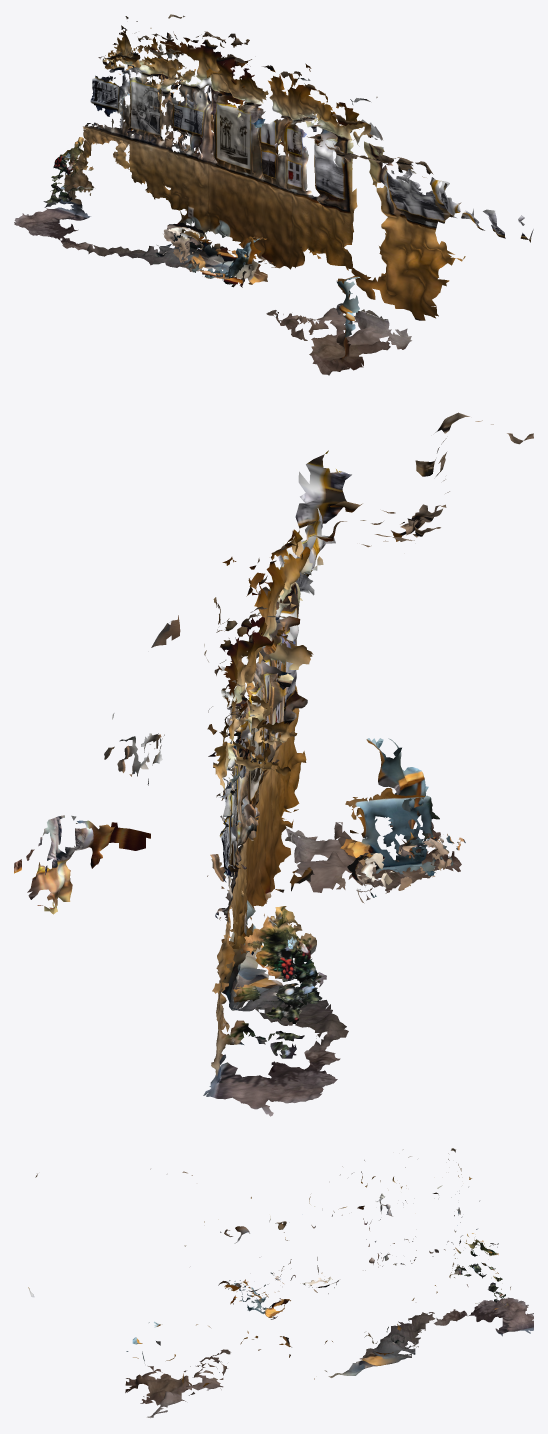
File: 138716-Tree-tex.glb
3 renders of one model, top to bottom at view 1: azimuth 30°, elevation 25°; view 2: azimuth 150°, elevation 25°; view 3: azimuth 270°, elevation 25°, orthographic. The views are drawn at different scales.
Parts seen in each view (by area): view 1: Node; view 2: Node; view 3: Node.
Part boxes in pixels (x1,y1,x2,y2): Node: (14, 14, 533, 375); Node: (14, 412, 533, 1116); Node: (28, 1148, 533, 1417).
Size of the model in its own units: 3.8 by 3.4 by 6.78.
10 materials, 10 textured.
